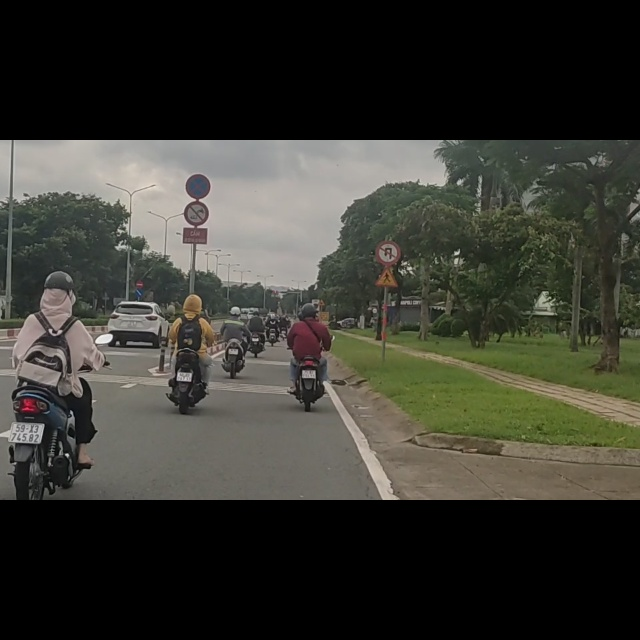bien_nguy_hiem: (185, 59, 211, 105), (375, 177, 401, 223), (184, 108, 209, 155), (375, 228, 399, 262), (136, 248, 144, 264), (135, 264, 143, 279)
